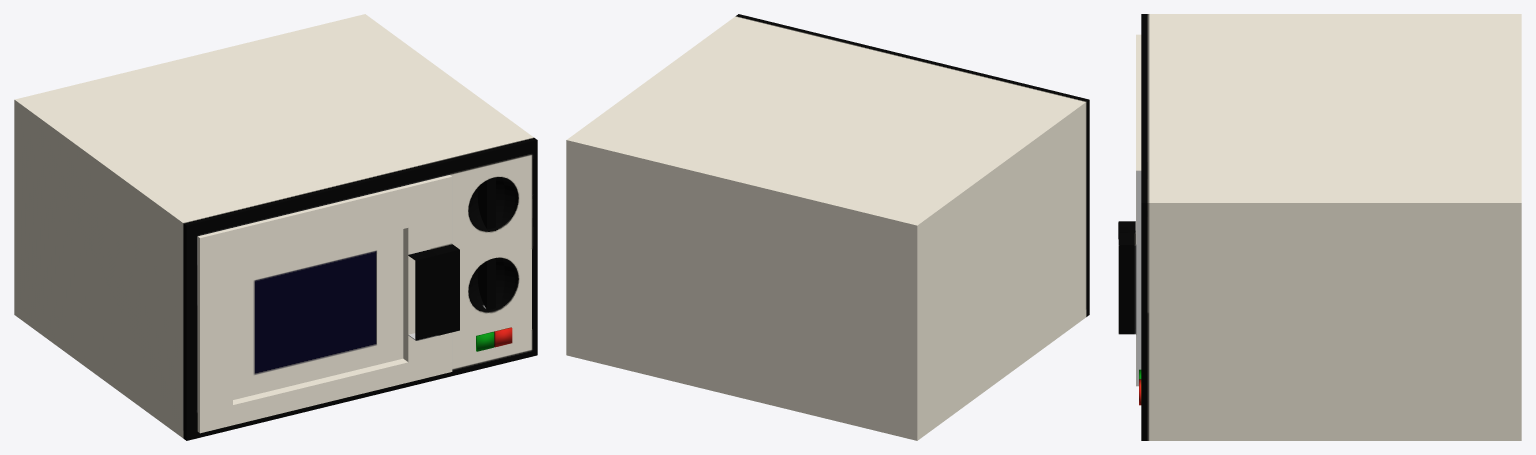
File: Microwave_all.fbx
The picture shows the model from 3 angles, left to right: view 1: azimuth 30°, elevation 25°; view 2: azimuth 150°, elevation 25°; view 3: azimuth 270°, elevation 25°; orthographic projection. The views are drawn at different scales.
Parts seen in each view (by area): view 1: Microwave_all_Baked; view 2: Microwave_all_Baked; view 3: Microwave_all_Baked.
Boxes of the visible parts, <box> form: Microwave_all_Baked: <box>14,14,537,440</box>; Microwave_all_Baked: <box>566,14,1089,440</box>; Microwave_all_Baked: <box>1118,14,1521,440</box>.
Bounding box in the file's own units: 52 × 30.5 × 46.91.
